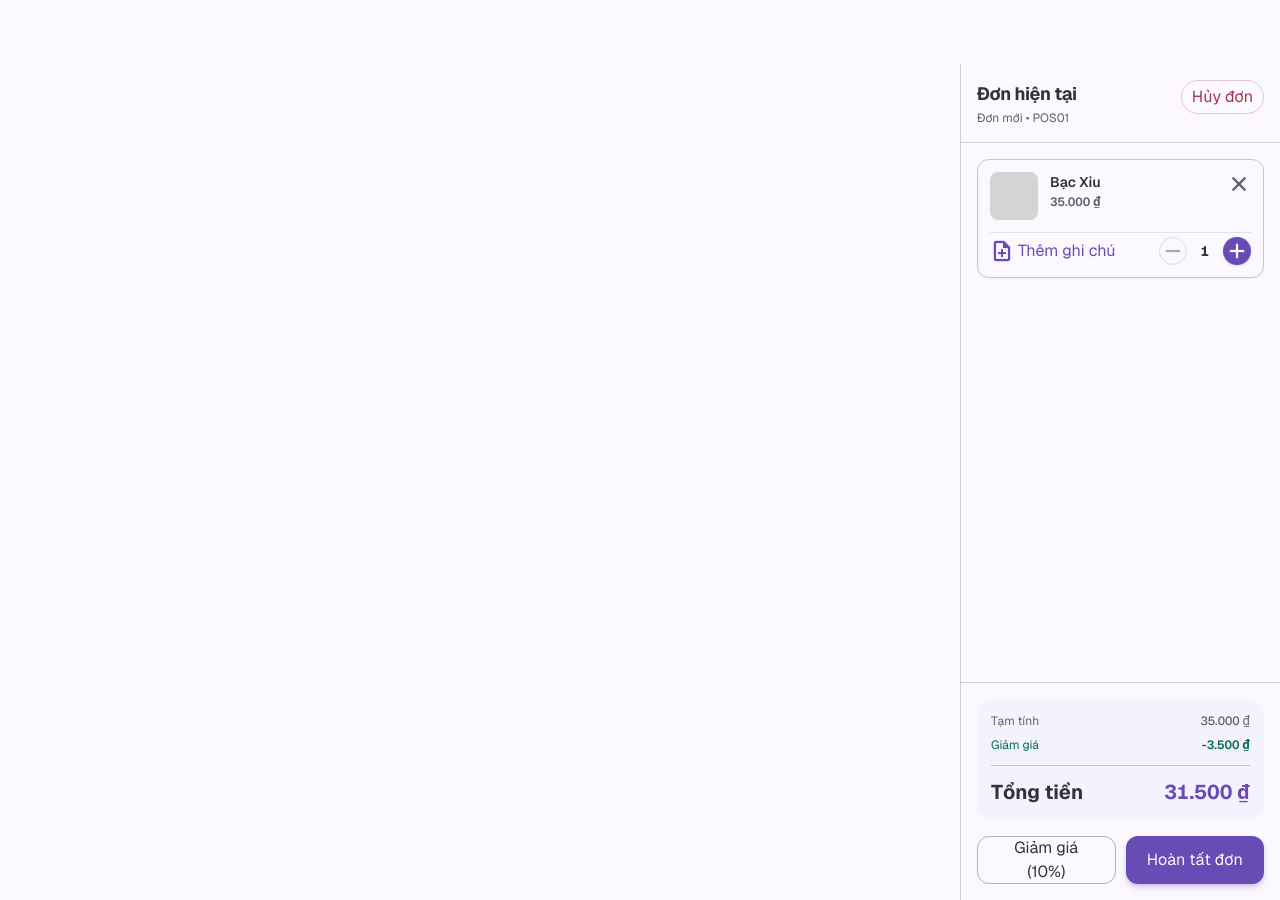
CartPanel discount modal › opens discount modal with prefilled values when discount exists
Click the button "Giảm giá (10%)".
click(1046, 860)  # box [977, 836, 1116, 884]
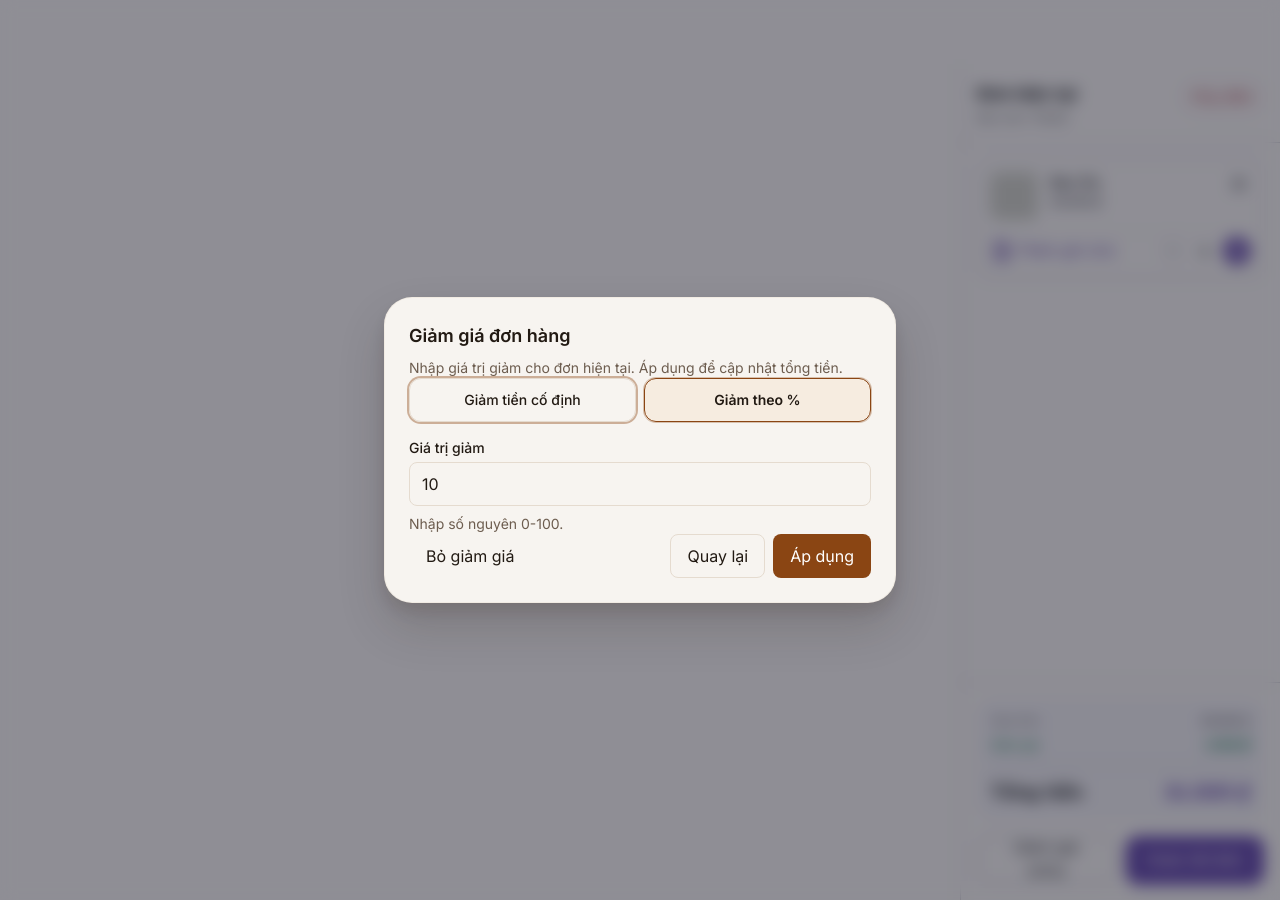
Expected: the dialog is shown, [384, 297, 896, 603]
Expected: the radio button labelled "Giảm theo %" is checked, [644, 378, 871, 422]
Expected: the field labelled "Giá trị giảm" holds "10", [409, 462, 871, 506]
